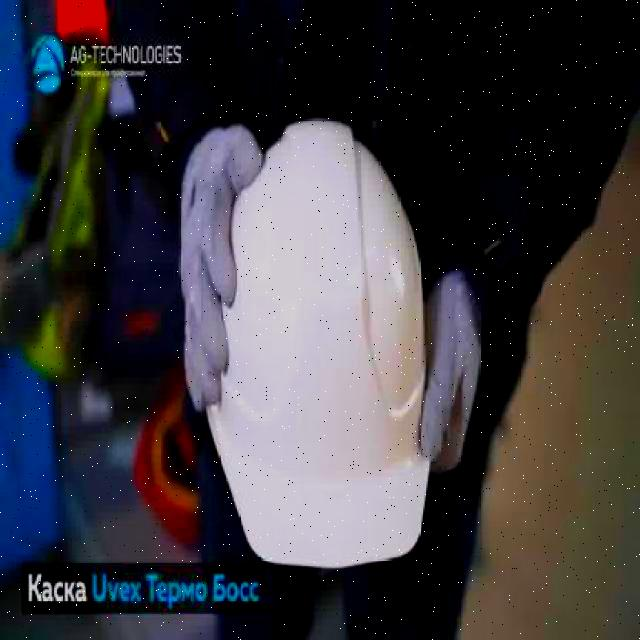Gloves: (178, 119, 264, 419), (418, 270, 484, 470)
Helmet: (206, 115, 432, 576)
